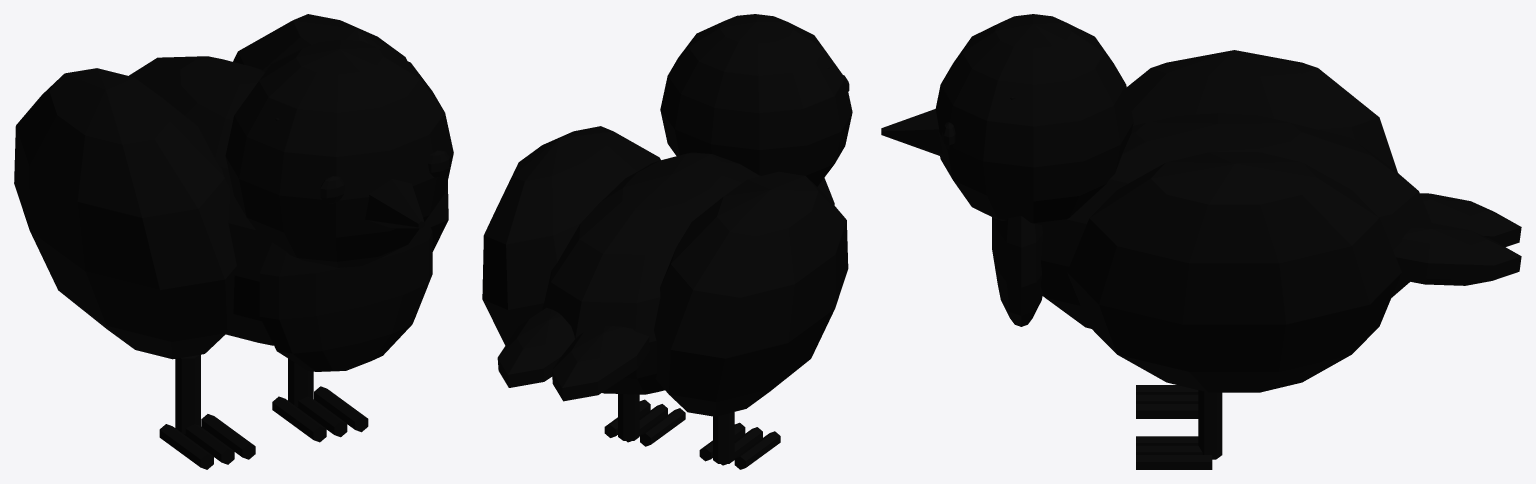
The model's file is perched.glb.
3 renders of one model, left to right at view 1: azimuth 30°, elevation 25°; view 2: azimuth 150°, elevation 25°; view 3: azimuth 270°, elevation 25°, orthographic. The views are drawn at different scales.
Visible parts, largest first — view 1: Wing_L, Head, YellowBreast, Body, Wing_R, Beak, Leg_L, Toe_R_0, Toe_L_0, Toe_L_2, Toe_R_2, Leg_R (+4 smaller); view 2: Wing_L, Head, Body, Wing_R, Tail_L, Tail_R, Leg_L, Leg_R, Toe_L_0, Toe_R_0, Toe_L_1, Toe_R_1; view 3: Wing_R, Head, Body, Wing_L, Tail_R, YellowBreast, Tail_L, Beak, Leg_R, Toe_R_2, Toe_L_2, Toe_R_1.
Part boxes in pixels (x1,y1,x2,y2): Wing_L: (14, 68, 236, 359); Head: (225, 39, 453, 267); YellowBreast: (259, 219, 432, 371); Body: (129, 56, 273, 345); Wing_R: (233, 14, 448, 251); Beak: (365, 179, 424, 228); Leg_L: (175, 354, 200, 434); Toe_R_0: (272, 396, 326, 442); Toe_L_0: (159, 424, 213, 469); Toe_L_2: (201, 414, 255, 459); Toe_R_2: (314, 386, 368, 432); Leg_R: (288, 358, 313, 406); Wing_L: (654, 171, 848, 416); Head: (660, 14, 852, 186); Body: (542, 152, 759, 394); Wing_R: (482, 126, 660, 345); Tail_L: (552, 326, 650, 401); Tail_R: (497, 308, 574, 387); Leg_L: (713, 412, 734, 463); Leg_R: (618, 394, 639, 440); Toe_L_0: (734, 431, 780, 469); Toe_R_0: (640, 408, 685, 446); Toe_L_1: (721, 427, 762, 465); Toe_R_1: (626, 404, 667, 442); Wing_R: (1067, 152, 1401, 392); Head: (935, 14, 1133, 225); Body: (1040, 113, 1431, 328); Wing_L: (1127, 50, 1397, 172); Tail_R: (1393, 222, 1521, 285); YellowBreast: (992, 216, 1042, 326); Tail_L: (1420, 193, 1521, 246); Beak: (881, 109, 943, 155); Leg_R: (1198, 390, 1222, 459); Toe_R_2: (1136, 455, 1212, 469); Toe_L_2: (1136, 404, 1198, 418); Toe_R_1: (1136, 445, 1202, 454).
Bounding box in the file's own units: 0.1025 × 0.1218 × 0.172.
9 materials, 9 textured.
